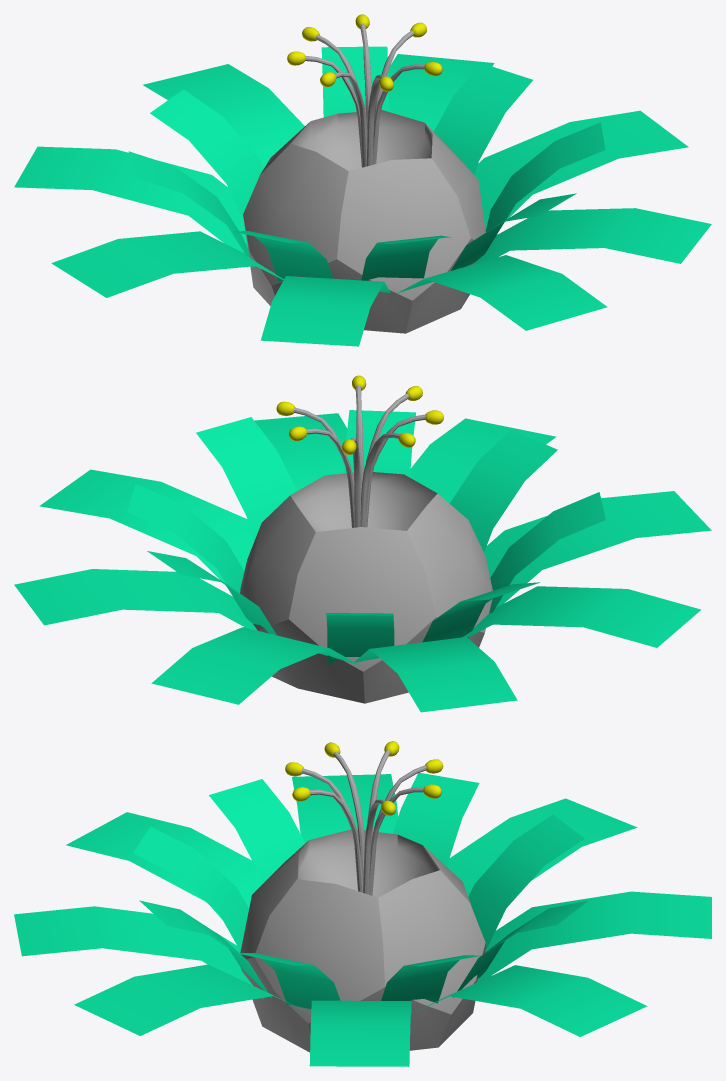
Rendered from forpaintrer.fbx.
The picture shows the model from 3 angles, top to bottom: view 1: azimuth 30°, elevation 25°; view 2: azimuth 150°, elevation 25°; view 3: azimuth 270°, elevation 25°; orthographic projection.
Parts seen in each view (by area): view 1: pPlane17; view 2: pPlane17; view 3: pPlane17.
Part boxes in pixels (box(x1,y1,x2,y2)): pPlane17: box(14, 14, 711, 346); pPlane17: box(14, 375, 711, 712); pPlane17: box(14, 741, 711, 1066).
Size of the model in its own units: 102 by 40.26 by 103.
